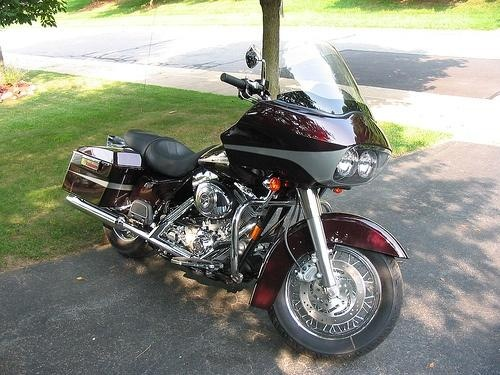motorbike: (60, 46, 411, 362)
